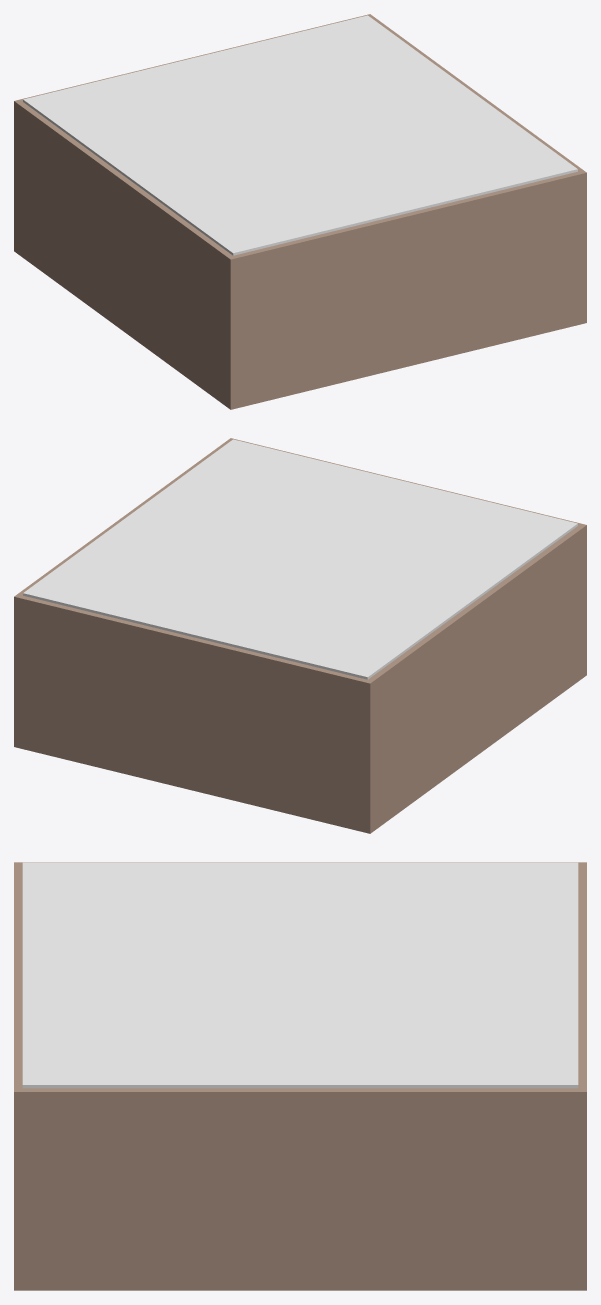
3 views of the same model, one above another, from view 1: azimuth 30°, elevation 25°; view 2: azimuth 150°, elevation 25°; view 3: azimuth 270°, elevation 25° (orthographic). The views are drawn at different scales.
Parts seen in each view (by area): view 1: Ceiling, Wall_Back, Wall_Left, Wall_Front, Wall_Right; view 2: Ceiling, Wall_Front, Wall_Left, Wall_Back, Wall_Right; view 3: Ceiling, Wall_Right, Wall_Back, Wall_Front, Wall_Left.
Part boxes in pixels (left/top/right/bottom): Ceiling: left=23, top=15, right=577, bottom=255; Wall_Back: left=227, top=170, right=586, bottom=409; Wall_Left: left=17, top=102, right=232, bottom=406; Wall_Front: left=14, top=14, right=372, bottom=253; Wall_Right: left=370, top=16, right=583, bottom=171; Ceiling: left=23, top=439, right=577, bottom=679; Wall_Front: left=14, top=594, right=373, bottom=833; Wall_Left: left=368, top=526, right=583, bottom=830; Wall_Back: left=228, top=438, right=586, bottom=677; Wall_Right: left=17, top=440, right=230, bottom=595; Ceiling: left=22, top=862, right=578, bottom=1088; Wall_Right: left=22, top=1088, right=578, bottom=1290; Wall_Back: left=14, top=862, right=22, bottom=1290; Wall_Front: left=578, top=862, right=586, bottom=1290; Wall_Left: left=23, top=862, right=577, bottom=862.
Bounding box in the file's own units: 7.44 × 3.05 × 7.84.
